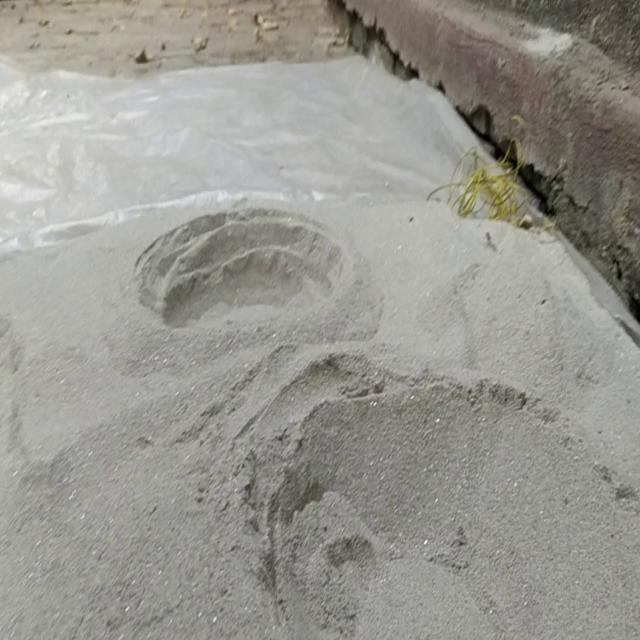C20: (248, 356, 638, 637), (140, 212, 340, 327)
